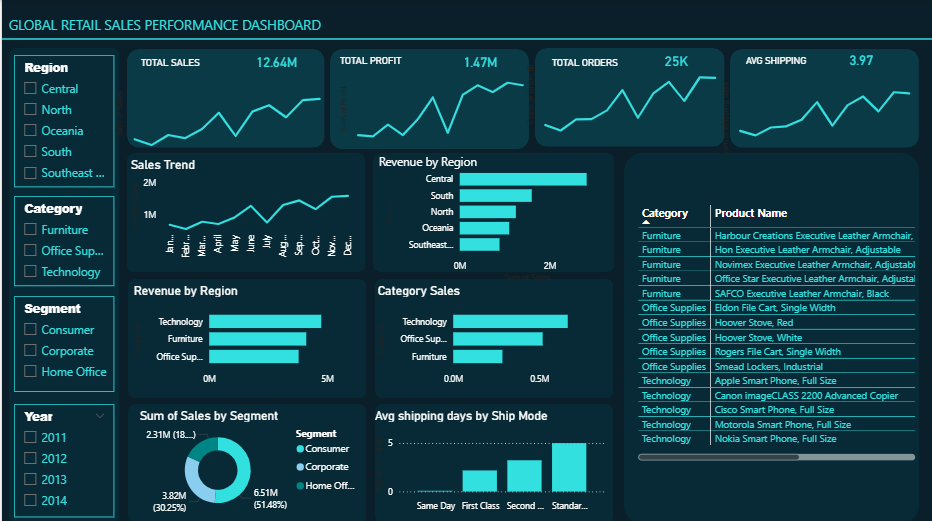

What the dashboard file says about the page in this screenshot:
{"tool":"powerbi","page":{"name":"Page 1","canvas":[1280,720],"ordinal":0},"visuals":[{"type":"textbox","box":[4,16,448,38],"z":0},{"type":"shape","box":[0,32,1280,44],"z":1000},{"type":"shape","box":[10,66,152,654],"z":2000},{"type":"shape","box":[172,68,272,136],"z":3000},{"type":"shape","box":[452,68,274,138],"z":4000},{"type":"shape","box":[734,66,261,136],"z":5000},{"type":"shape","box":[1002,68,260,136],"z":6000},{"type":"textbox","title":"TOTAL SALES","box":[186,78,94,18],"z":7000},{"type":"textbox","title":"TOTAL PROFIT","box":[460,78,108,18],"z":8000},{"type":"textbox","title":"TOTAL ORDERS","box":[752,78,104,18],"z":9000},{"type":"textbox","title":"AVG SHIPPING","box":[1018,76,106,20],"z":10000},{"type":"card","fields":{"Values":["superglobal.Total sales"]},"box":[320,46,114,82],"z":11000},{"type":"lineChart","fields":{"Category":["superglobal.Order Date.Variation.Date Hierarchy.Month"],"Y":["Sum(superglobal.Sales)"]},"box":[152,96,300,112],"z":12000},{"type":"card","fields":{"Values":["superglobal.Total profit"]},"box":[600,46,116,82],"z":13000},{"type":"card","fields":{"Values":["superglobal.Total orders"]},"box":[870,42,116,84],"z":14000},{"type":"card","fields":{"Values":["superglobal.Avg shipping days"]},"box":[1124,44,116,80],"z":15000},{"type":"lineChart","fields":{"Category":["superglobal.Order Date.Variation.Date Hierarchy.Month"],"Y":["Sum(superglobal.Profit)"]},"box":[460,82,270,126],"z":16000},{"type":"lineChart","fields":{"Category":["superglobal.Order Date.Variation.Date Hierarchy.Month"],"Y":["CountNonNull(superglobal.Order ID)"]},"box":[718,78,278,126],"z":17000},{"type":"lineChart","fields":{"Category":["superglobal.Order Date.Variation.Date Hierarchy.Month"],"Y":["Sum(superglobal.shipping days)"]},"box":[994,80,276,126],"z":18000},{"type":"shape","box":[172,210,328,164],"z":19000},{"type":"lineChart","title":"Sales Trend","fields":{"Category":["superglobal.Order Date.Variation.Date Hierarchy.Month"],"Y":["Sum(superglobal.Sales)"]},"box":[172,216,318,150],"z":20000},{"type":"shape","box":[510,210,332,164],"z":21000},{"type":"clusteredBarChart","title":"Revenue by Region","fields":{"Y":["Sum(superglobal.Sales)"],"Category":["superglobal.Region"]},"box":[523.3,216.7,306.7,176.7],"z":22000},{"type":"shape","box":[174,384,328,164],"z":23000},{"type":"clusteredBarChart","title":"Revenue by Region","fields":{"Y":["Sum(superglobal.Sales)"],"Category":["superglobal.Category"]},"box":[176,390,318,150],"z":24000},{"type":"shape","box":[514,384,328,164],"z":25000},{"type":"clusteredBarChart","title":"Category Sales","fields":{"Y":["Sum(superglobal.Profit)"],"Category":["superglobal.Category"]},"box":[512,390,318,150],"z":26000},{"type":"shape","box":[174,556,328,164],"z":27000},{"type":"donutChart","fields":{"Category":["superglobal.Segment"],"Y":["Sum(superglobal.Sales)"]},"box":[184,562,318,150],"z":28000},{"type":"shape","box":[514,556,328,164],"z":29000},{"type":"clusteredColumnChart","fields":{"Category":["superglobal.Ship Mode"],"Y":["superglobal.Avg shipping days"]},"box":[508,562,328,150],"z":30000},{"type":"shape","box":[856,210,406,510],"z":31000},{"type":"tableEx","fields":{"Values":["superglobal.Category","superglobal.Product Name","Sum(superglobal.Sales)","superglobal.Product Rank"]},"box":[870,276,392,362],"z":32000},{"type":"slicer","fields":{"Values":["superglobal.Region"]},"box":[16,76,138,182],"z":33000},{"type":"slicer","fields":{"Values":["superglobal.Category"]},"box":[16,270,138,124],"z":34000},{"type":"slicer","fields":{"Values":["superglobal.Segment"]},"box":[16,408,138,132],"z":35000},{"type":"slicer","fields":{"Values":["superglobal.Order Date.Variation.Date Hierarchy.Year"]},"box":[16,556,138,156],"z":36000},{"type":"textbox","box":[513.3,206.7,220,33.3],"z":37000}]}

Visuals, with their boxes in screenshot pixels (x1, y1, x2, y2), scaled from the page's 1280x720 canvas onto the 932x521 screenshot:
textbox: select_region(3, 12, 329, 39)
shape: select_region(0, 23, 931, 55)
shape: select_region(7, 48, 118, 520)
shape: select_region(125, 49, 323, 148)
shape: select_region(329, 49, 529, 149)
shape: select_region(534, 48, 724, 146)
shape: select_region(730, 49, 919, 148)
"TOTAL SALES" textbox: select_region(135, 56, 204, 69)
"TOTAL PROFIT" textbox: select_region(335, 56, 414, 69)
"TOTAL ORDERS" textbox: select_region(548, 56, 623, 69)
"AVG SHIPPING" textbox: select_region(741, 55, 818, 69)
card - superglobal.Total sales: select_region(233, 33, 316, 93)
lineChart - superglobal.Order Date.Variation.Date Hierarchy.Month x Sum(superglobal.Sales): select_region(111, 69, 329, 151)
card - superglobal.Total profit: select_region(437, 33, 521, 93)
card - superglobal.Total orders: select_region(633, 30, 718, 91)
card - superglobal.Avg shipping days: select_region(818, 32, 903, 90)
lineChart - superglobal.Order Date.Variation.Date Hierarchy.Month x Sum(superglobal.Profit): select_region(335, 59, 532, 151)
lineChart - superglobal.Order Date.Variation.Date Hierarchy.Month x CountNonNull(superglobal.Order ID): select_region(523, 56, 725, 148)
lineChart - superglobal.Order Date.Variation.Date Hierarchy.Month x Sum(superglobal.shipping days): select_region(724, 58, 925, 149)
shape: select_region(125, 152, 364, 271)
"Sales Trend" lineChart: select_region(125, 156, 357, 265)
shape: select_region(371, 152, 613, 271)
"Revenue by Region" clusteredBarChart: select_region(381, 157, 604, 285)
shape: select_region(127, 278, 366, 397)
"Revenue by Region" clusteredBarChart: select_region(128, 282, 360, 391)
shape: select_region(374, 278, 613, 397)
"Category Sales" clusteredBarChart: select_region(373, 282, 604, 391)
shape: select_region(127, 402, 366, 520)
donutChart - superglobal.Segment x Sum(superglobal.Sales): select_region(134, 407, 366, 515)
shape: select_region(374, 402, 613, 520)
clusteredColumnChart - superglobal.Ship Mode x superglobal.Avg shipping days: select_region(370, 407, 609, 515)
shape: select_region(623, 152, 919, 520)
tableEx - superglobal.Category x superglobal.Product Name: select_region(633, 200, 919, 462)
slicer - superglobal.Region: select_region(12, 55, 112, 187)
slicer - superglobal.Category: select_region(12, 195, 112, 285)
slicer - superglobal.Segment: select_region(12, 295, 112, 391)
slicer - superglobal.Order Date.Variation.Date Hierarchy.Year: select_region(12, 402, 112, 515)
textbox: select_region(374, 150, 534, 174)
